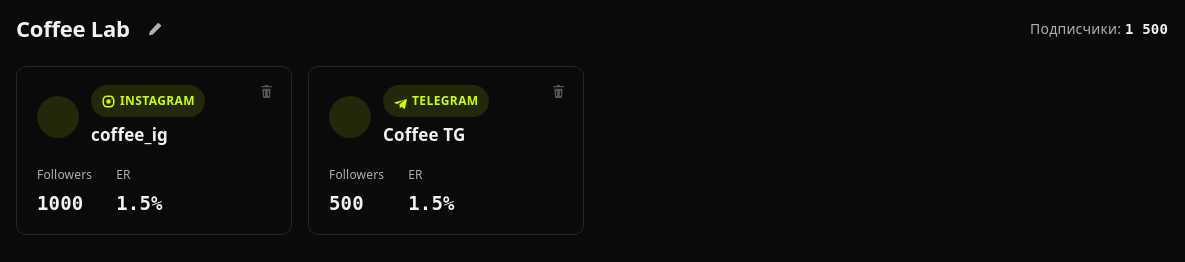
ProfilePage › cancels a rename on Escape
Click the button named "Переименовать" at (154, 29), box x1=142 y1=16 x2=167 y2=42
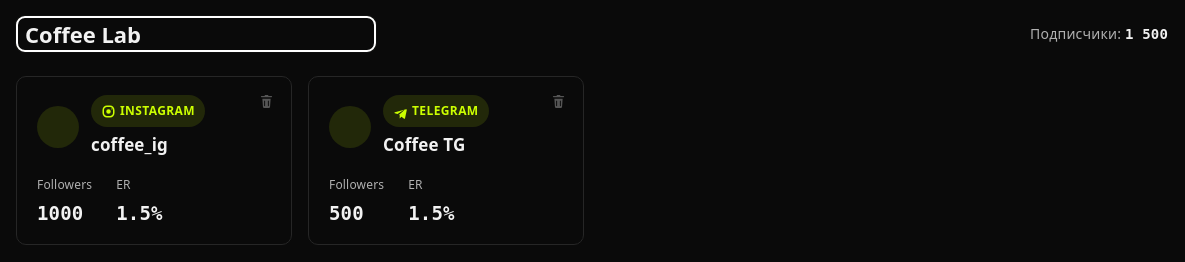
Replace the text in the field named "Название профиля" with "Something else" at (196, 34), box x1=16 y1=16 x2=376 y2=52
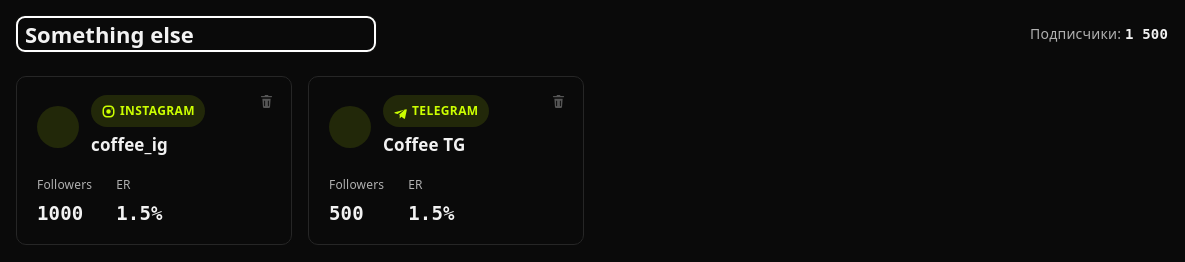
Press Escape in the field named "Название профиля", box x1=16 y1=16 x2=376 y2=52
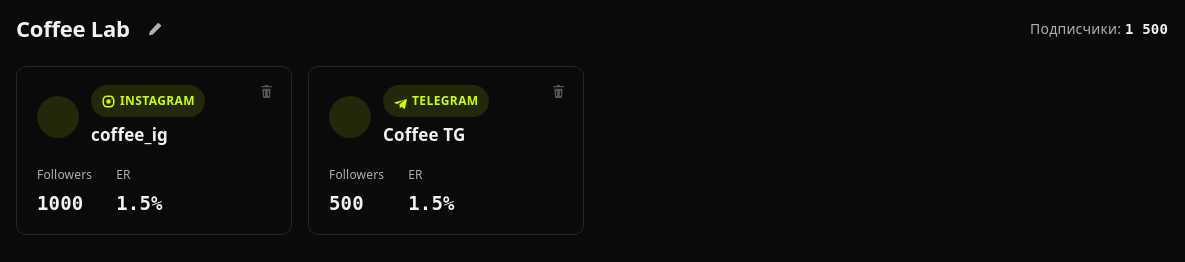
Expected: the heading "Coffee Lab" is shown, x1=16 y1=16 x2=130 y2=42
